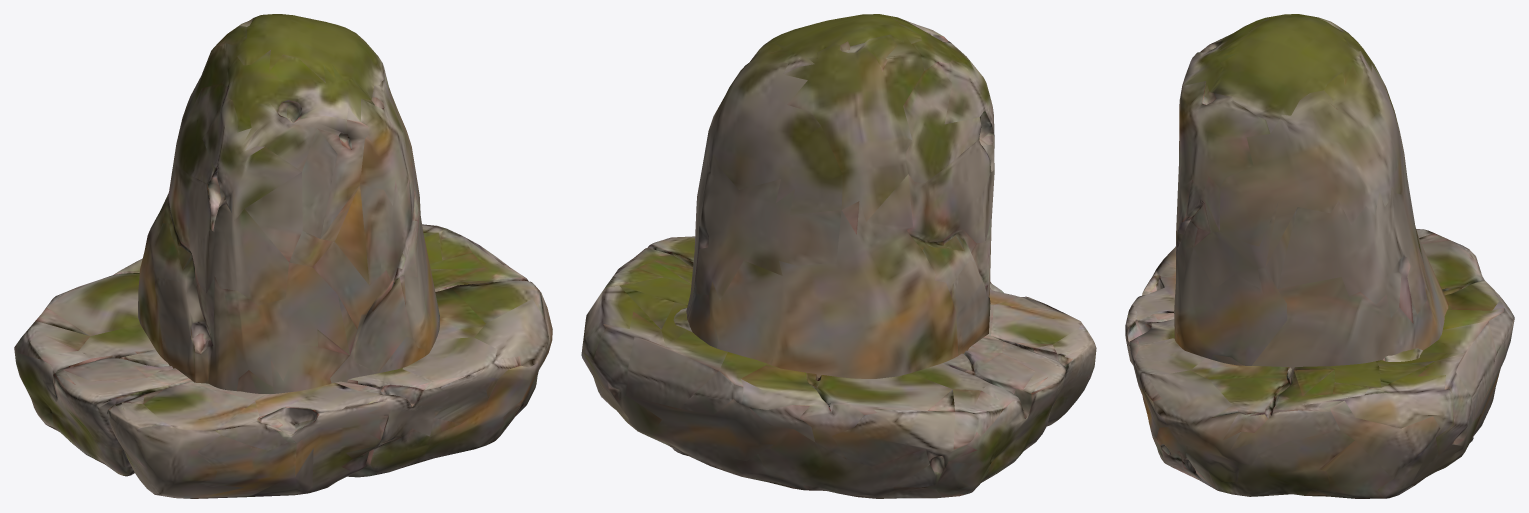
The model's file is kayalar.glb.
3 renders of one model, left to right at view 1: azimuth 30°, elevation 25°; view 2: azimuth 150°, elevation 25°; view 3: azimuth 270°, elevation 25°, orthographic. The views are drawn at different scales.
Visible parts, largest first — view 1: uzun, yassi; view 2: uzun, yassi; view 3: uzun, yassi.
Part boxes in pixels (x1,y1,x2,y2): uzun: [138, 14, 439, 393]; yassi: [14, 224, 552, 498]; uzun: [686, 14, 994, 378]; yassi: [581, 236, 1096, 498]; uzun: [1174, 14, 1448, 369]; yassi: [1125, 229, 1514, 498].
Size of the model in its own units: 0.9661 by 0.8392 by 0.7815.
Materials: 1 (1 with a texture image).
